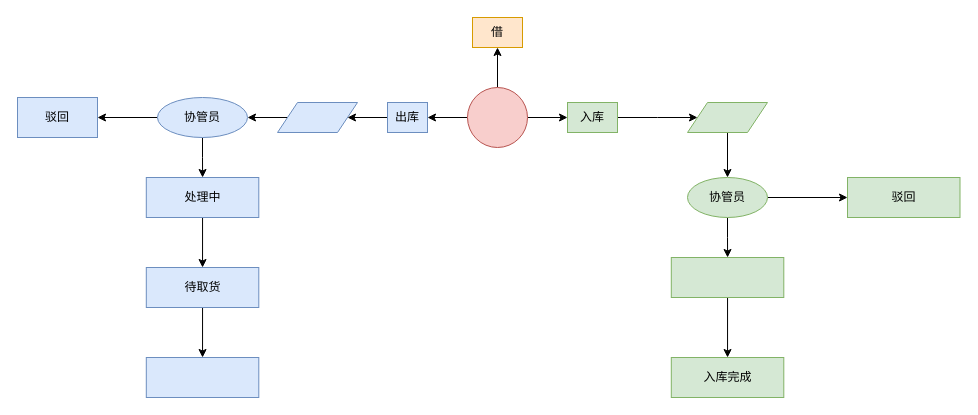
Image size: 978x415. Some labels were removed from this diagram. Here are the shapes that lost their labels. From the top down, the box of each, then its label:
(276, 102, 358, 132): 出库单(审)
(466, 86, 528, 148): 申请人
(686, 102, 768, 132): 入库单(审)
(670, 256, 784, 298): 待入库
(145, 356, 259, 398): 订单完成
